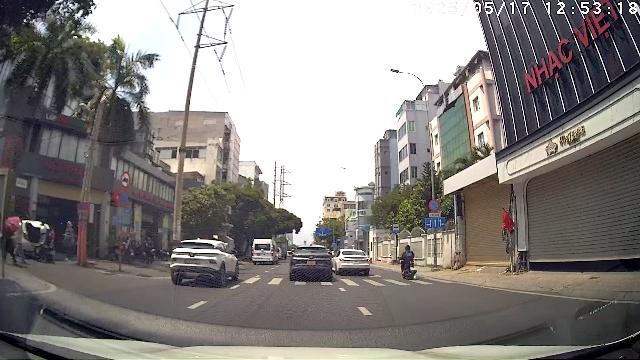131a-cam-do-xe: (428, 199, 440, 212)
